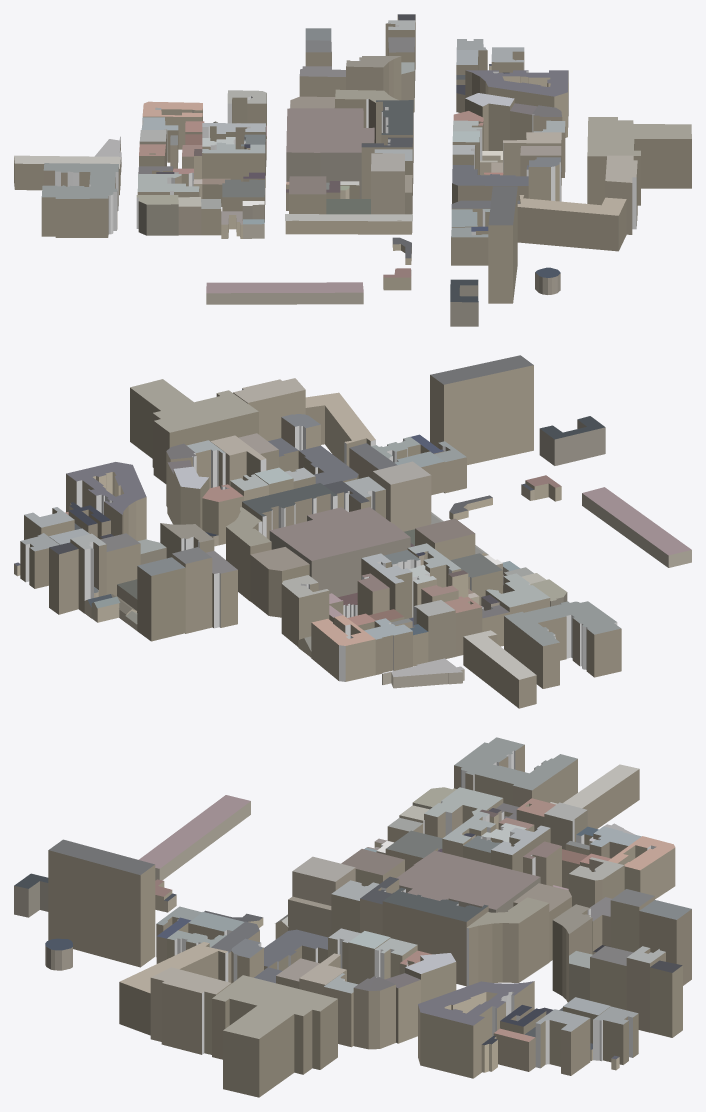
3 views of the same model, one above another, from view 1: azimuth 30°, elevation 25°; view 2: azimuth 150°, elevation 25°; view 3: azimuth 270°, elevation 25° (orthographic). The views are drawn at different scales.
Parts seen in each view (by area): view 1: tuile; view 2: tuile; view 3: tuile.
Part boxes in pixels (<box>): tuile: <box>14,14,691,326</box>; tuile: <box>14,355,691,708</box>; tuile: <box>14,737,691,1097</box>.
Size of the model in its own units: 296 by 41.71 by 267.
